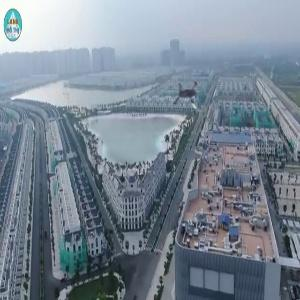drone: (165, 76, 216, 127)
